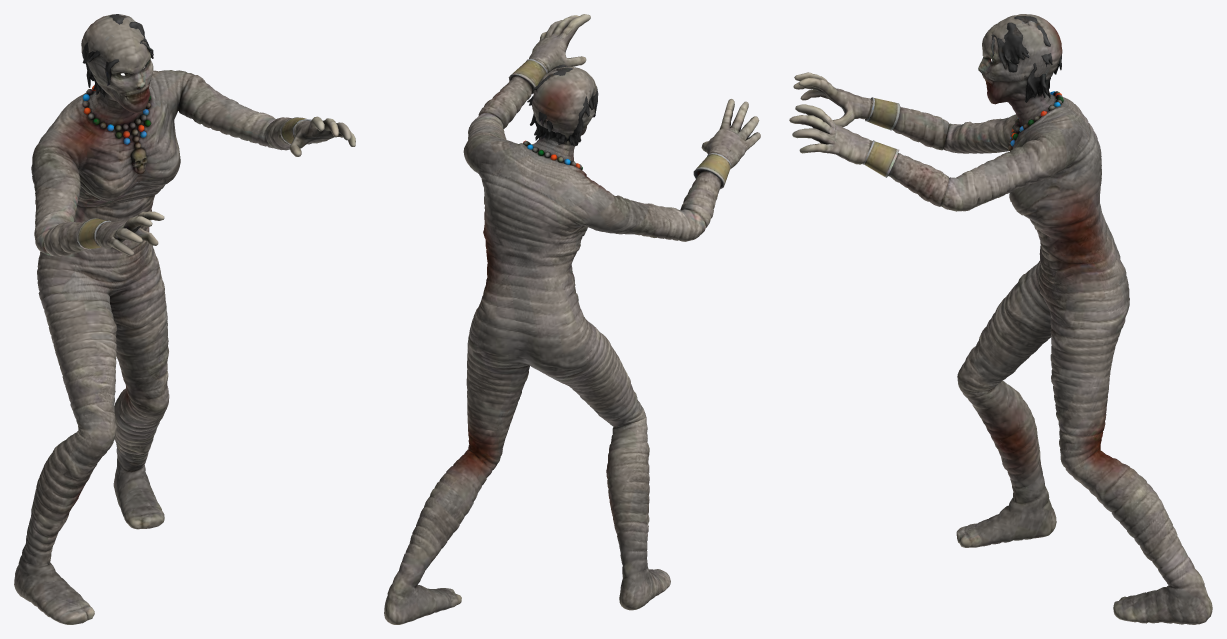
File: MZ4250 - Mummy Female_2025.glb
3 renders of one model, left to right at view 1: azimuth 30°, elevation 25°; view 2: azimuth 150°, elevation 25°; view 3: azimuth 270°, elevation 25°, orthographic. The views are drawn at different scales.
Visible parts, largest first — view 1: Body.002; view 2: Body.002; view 3: Body.002.
Part boxes in pixels (<box>): Body.002: <box>14,14,355,624</box>; Body.002: <box>384,14,760,624</box>; Body.002: <box>789,14,1212,624</box>.
Size of the model in its own units: 40.33 by 86.33 by 59.18.
1 material, 1 textured.
